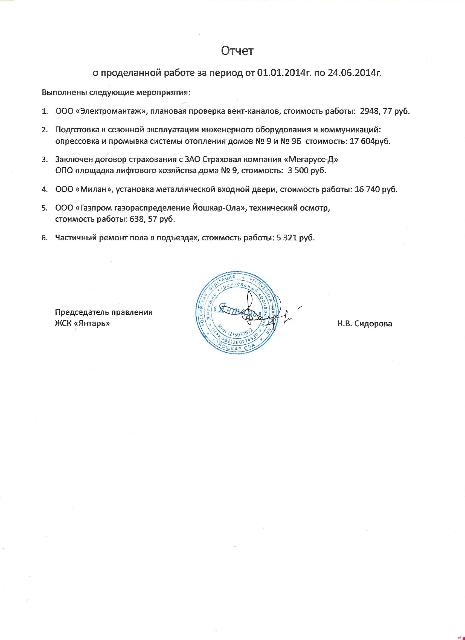stamp: (194, 272, 278, 354)
